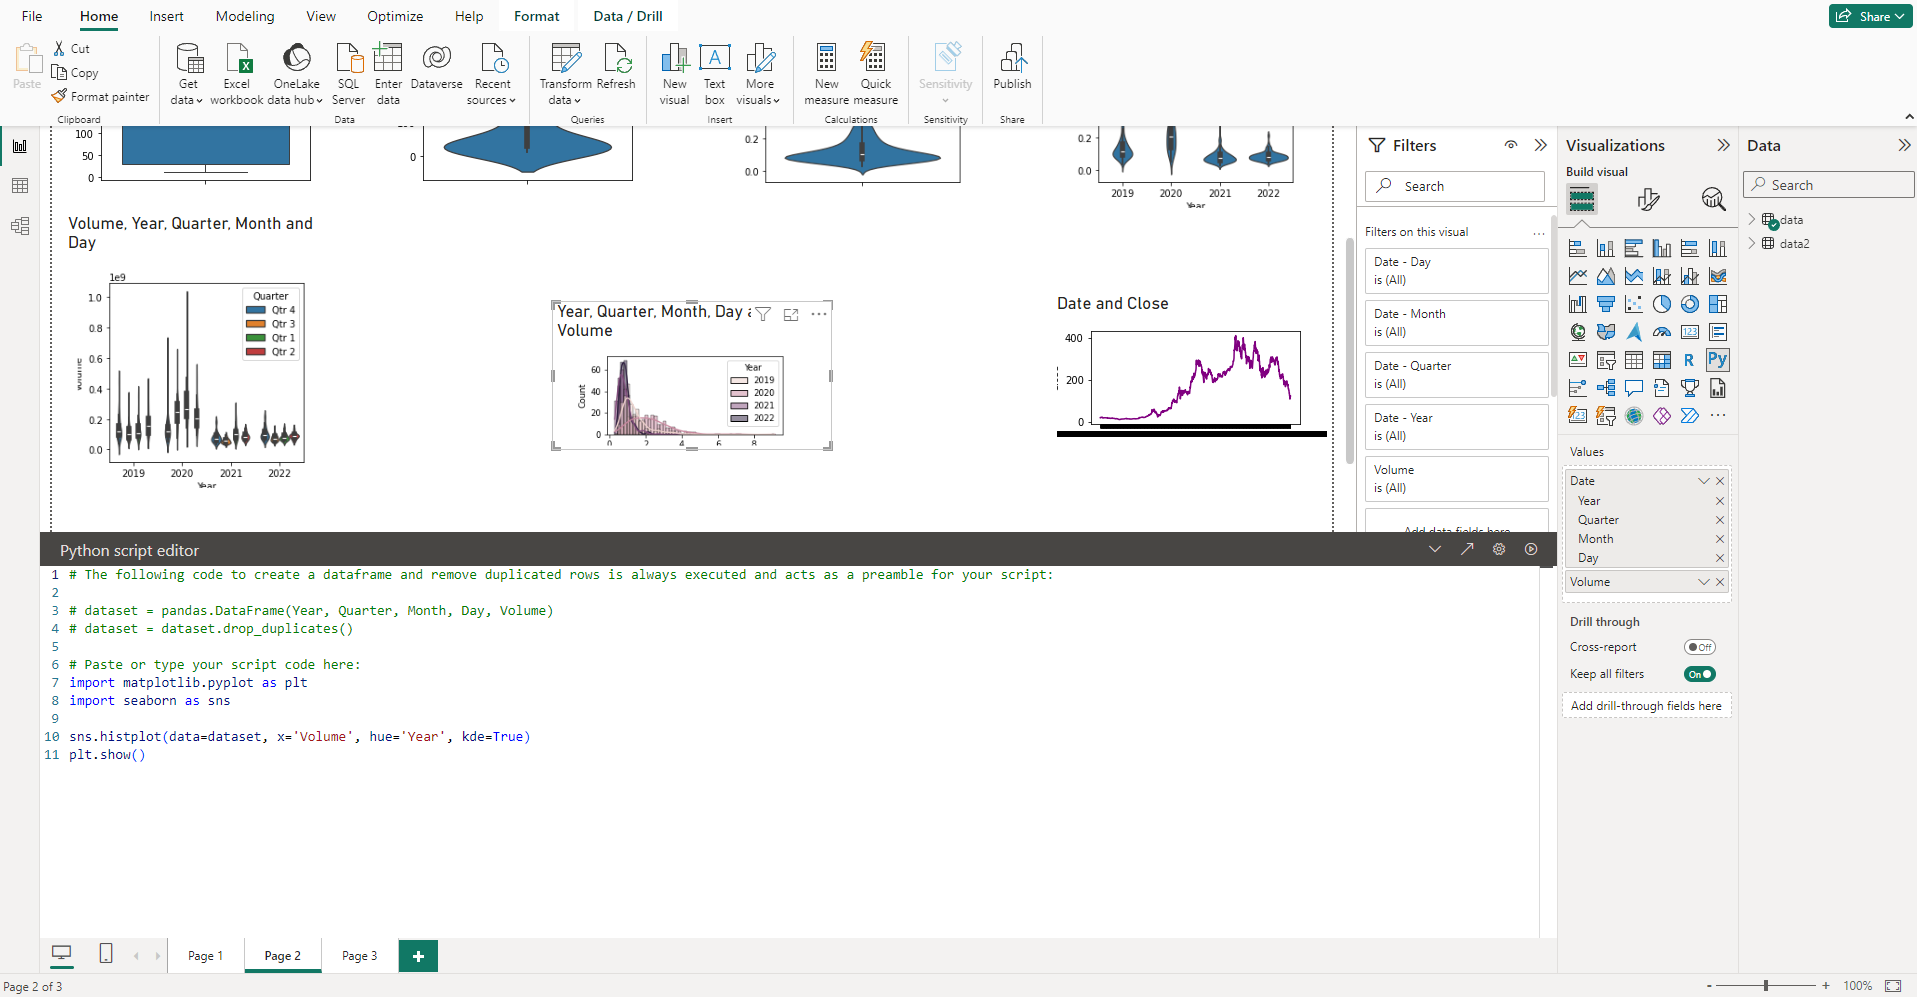

This screenshot's page, from the dashboard's own definition file:
{"tool":"powerbi","page":{"name":"Page 2","canvas":[1280,720],"ordinal":1},"visuals":[{"type":"pythonVisual","fields":{"Values":["data.Close"]},"box":[10,0,280,280],"z":0},{"type":"pythonVisual","fields":{"Values":["data.Close"]},"box":[332,0,280,280],"z":1000},{"type":"pythonVisual","fields":{"Values":["data.Volume","data.Date.Variation.Date Hierarchy.Year","data.Date.Variation.Date Hierarchy.Quarter","data.Date.Variation.Date Hierarchy.Month","data.Date.Variation.Date Hierarchy.Day"]},"box":[667,0,280,280],"z":2000},{"type":"pythonVisual","fields":{"Values":["data.Volume","data.Date.Variation.Date Hierarchy.Year","data.Date.Variation.Date Hierarchy.Quarter","data.Date.Variation.Date Hierarchy.Month","data.Date.Variation.Date Hierarchy.Day"]},"box":[1000,0,280,280],"z":3000},{"type":"pythonVisual","fields":{"Values":["data.Volume","data.Date.Variation.Date Hierarchy.Year","data.Date.Variation.Date Hierarchy.Quarter","data.Date.Variation.Date Hierarchy.Month","data.Date.Variation.Date Hierarchy.Day"]},"box":[10.5,280,280,280],"z":4000},{"type":"pythonVisual","fields":{"Values":["data.Date.Variation.Date Hierarchy.Year","data.Date.Variation.Date Hierarchy.Quarter","data.Date.Variation.Date Hierarchy.Month","data.Date.Variation.Date Hierarchy.Day","data.Volume"]},"box":[500,368,280,149],"z":5000},{"type":"pythonVisual","fields":{"Values":["data.Date","data.Close"]},"box":[1000,360,280,149],"z":6000}]}

Visuals, with their boxes on the page's 1280x720 design canvas (x1, y1, x2, y2). These are canvas units, not pixel positions in the 1917x997 screenshot, which may show the page scaled, cropped or inside an application window:
pythonVisual - data.Close: [10,0,290,280]
pythonVisual - data.Close: [332,0,612,280]
pythonVisual - data.Volume x data.Date.Variation.Date Hierarchy.Year: [667,0,947,280]
pythonVisual - data.Volume x data.Date.Variation.Date Hierarchy.Year: [1000,0,1280,280]
pythonVisual - data.Volume x data.Date.Variation.Date Hierarchy.Year: [10,280,290,560]
pythonVisual - data.Date.Variation.Date Hierarchy.Year x data.Date.Variation.Date Hierarchy.Quarter: [500,368,780,517]
pythonVisual - data.Date x data.Close: [1000,360,1280,509]
